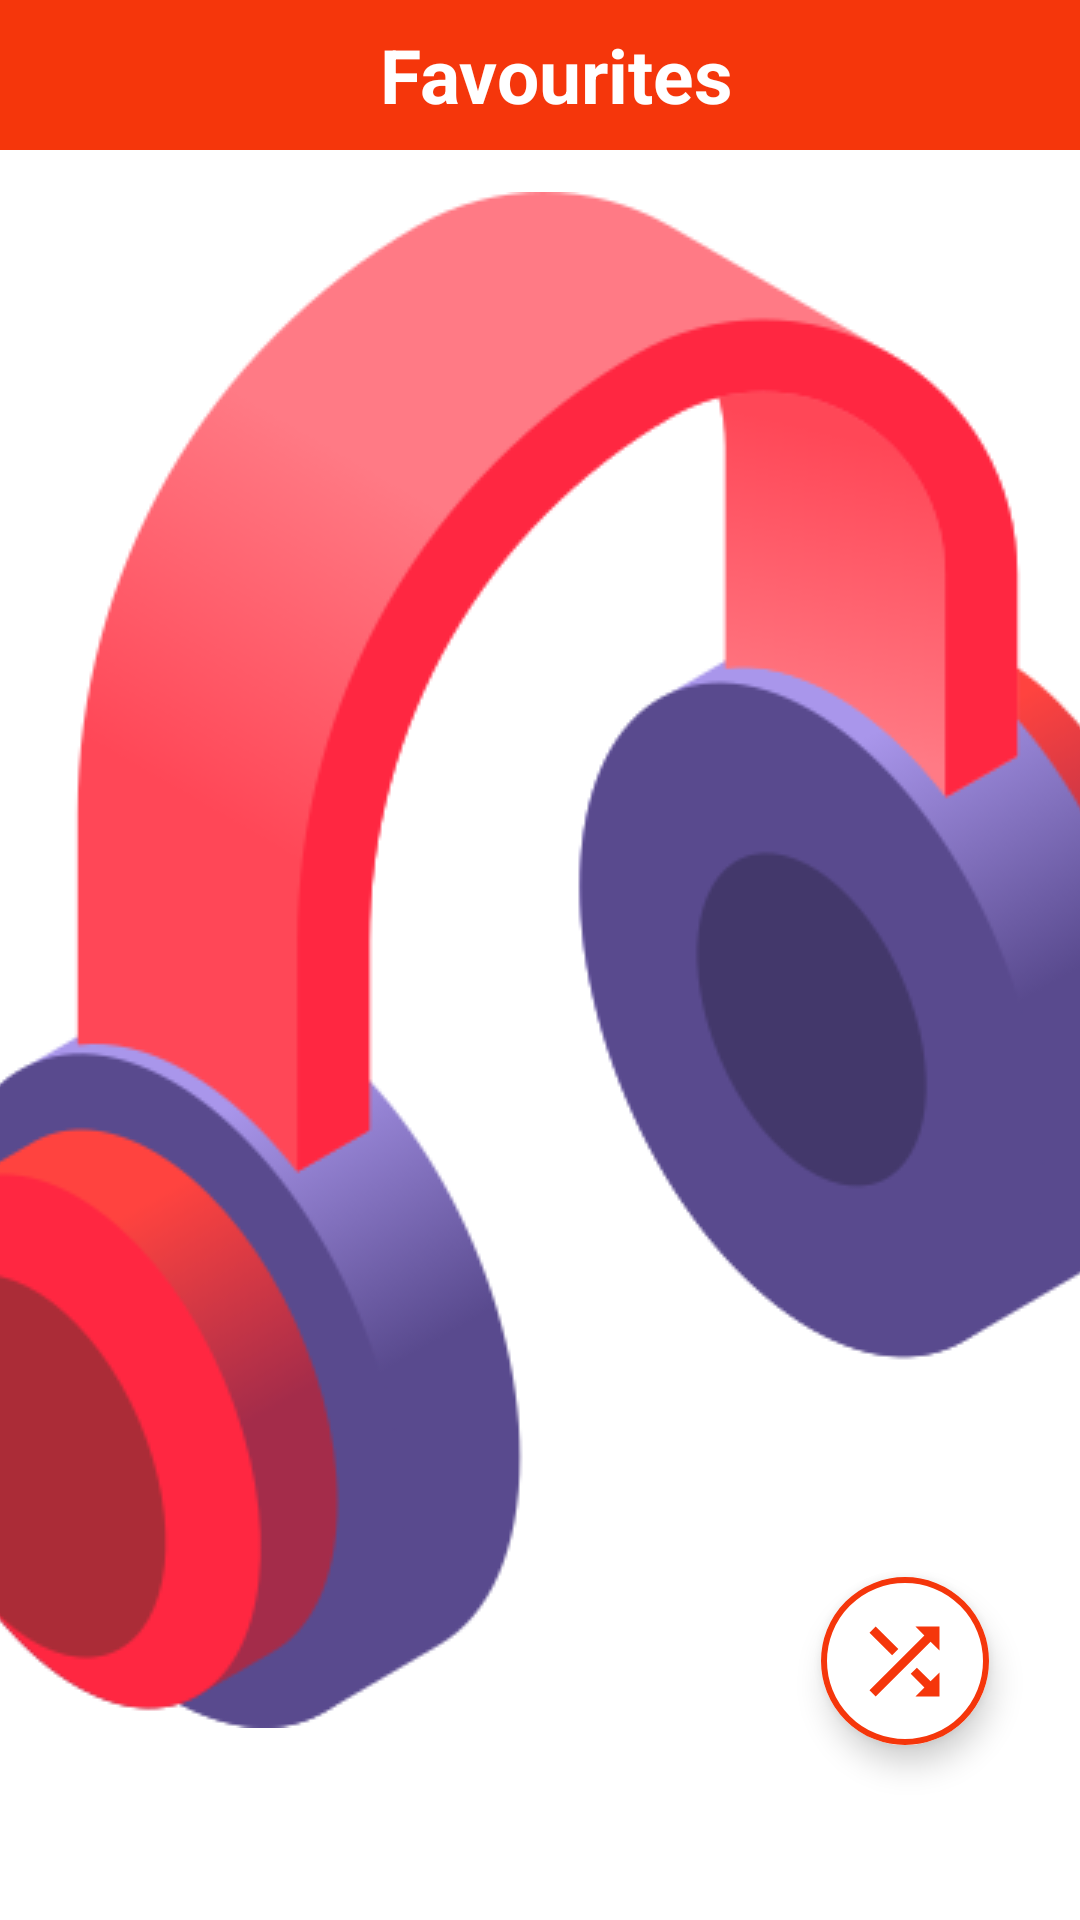

Icon click points for this 1080px x 1920px phone screenshot, format (x,y):
Shuffle: (905,1661)
